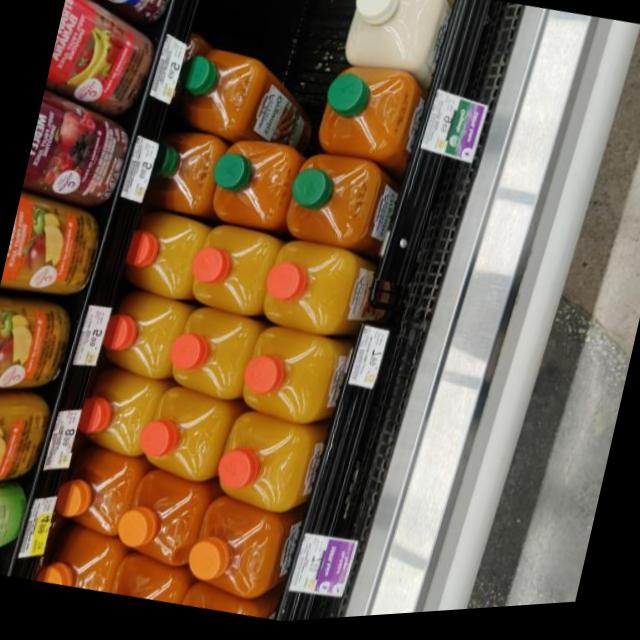Juice: (170, 44, 314, 171), (18, 82, 140, 226), (41, 0, 165, 123), (209, 412, 326, 535), (286, 153, 401, 272), (254, 238, 372, 347), (181, 497, 291, 611), (0, 193, 108, 304), (110, 469, 212, 585), (238, 332, 346, 438), (320, 62, 422, 172), (138, 389, 230, 503), (203, 130, 294, 241), (337, 0, 448, 89), (186, 223, 276, 331), (0, 297, 77, 416), (50, 448, 136, 548), (169, 312, 251, 411), (113, 214, 200, 307), (146, 133, 226, 226), (32, 521, 124, 599), (102, 303, 182, 387), (0, 389, 54, 512), (98, 556, 186, 610)
